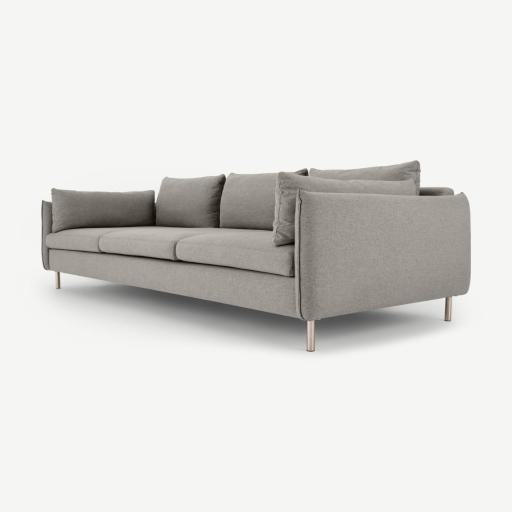back_cushion: (155, 161, 419, 245), (52, 190, 154, 232)
base: (50, 250, 298, 317)
left_arm: (296, 190, 470, 321)
legs: (306, 321, 315, 351), (444, 297, 452, 321), (55, 271, 60, 289)
right_arm: (42, 202, 52, 270)
seat_cushion: (45, 226, 293, 277)
two-seater: (0, 0, 511, 512)
